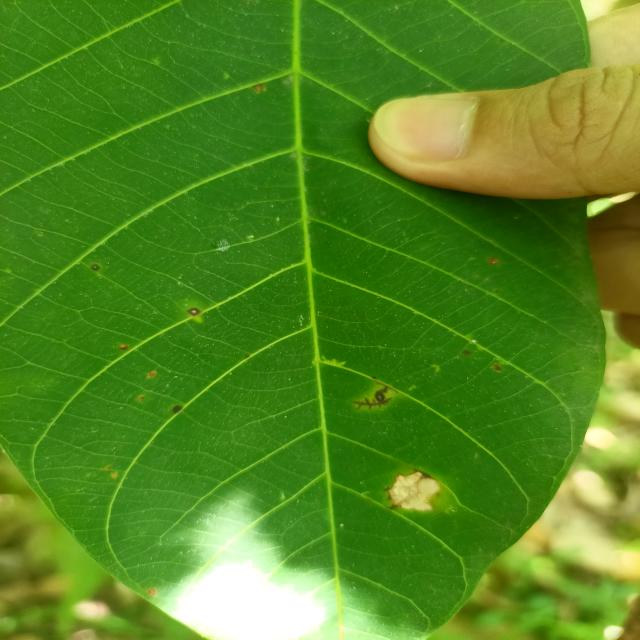Colletotrichum: (187, 307, 200, 316), (172, 406, 182, 413), (91, 264, 100, 271), (120, 344, 129, 351), (462, 350, 470, 356)
Corynespora: (350, 382, 397, 410)
Leaf-Blight: (388, 471, 439, 510)
